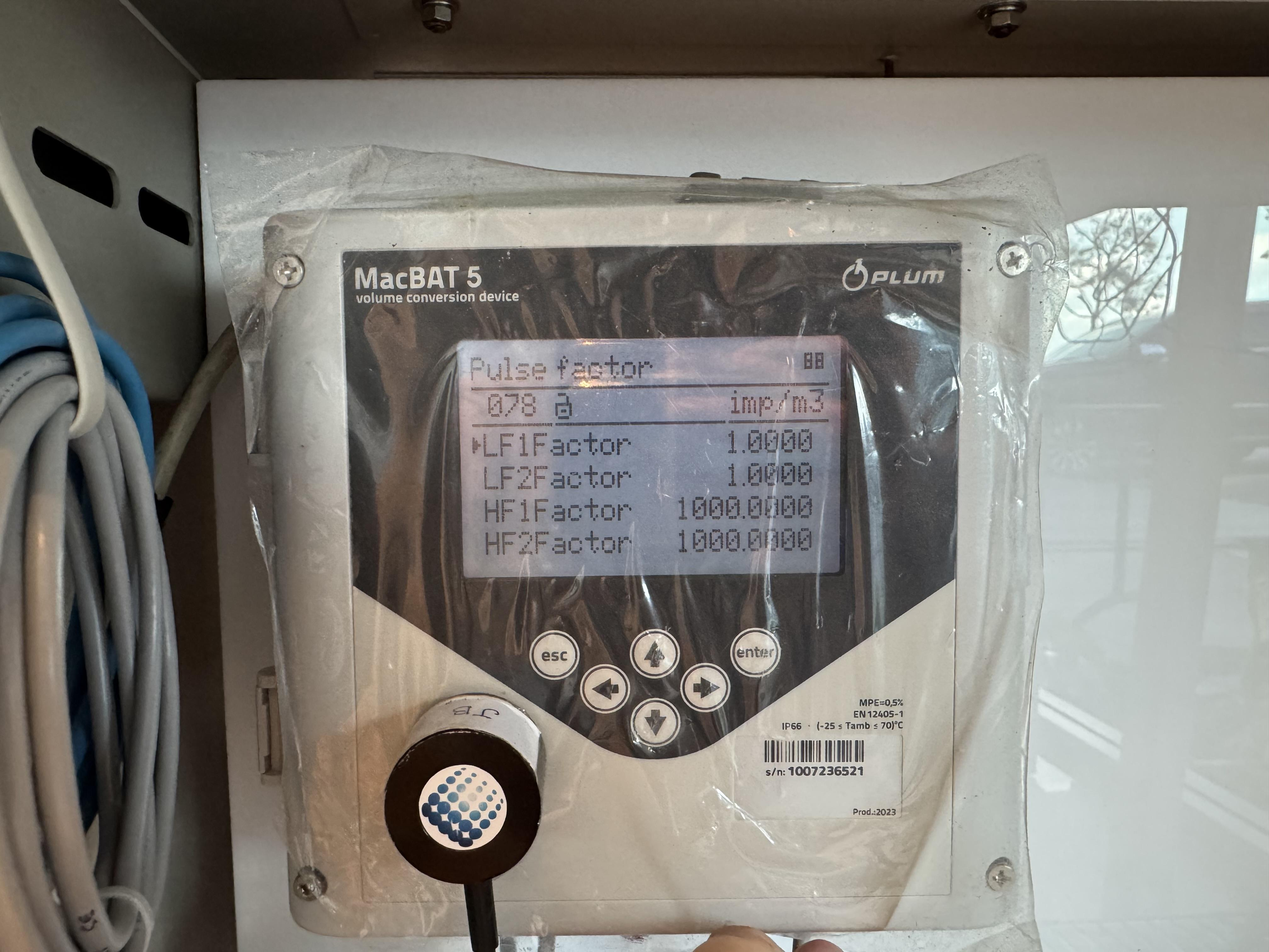digital_screen: (458, 336, 846, 578)
